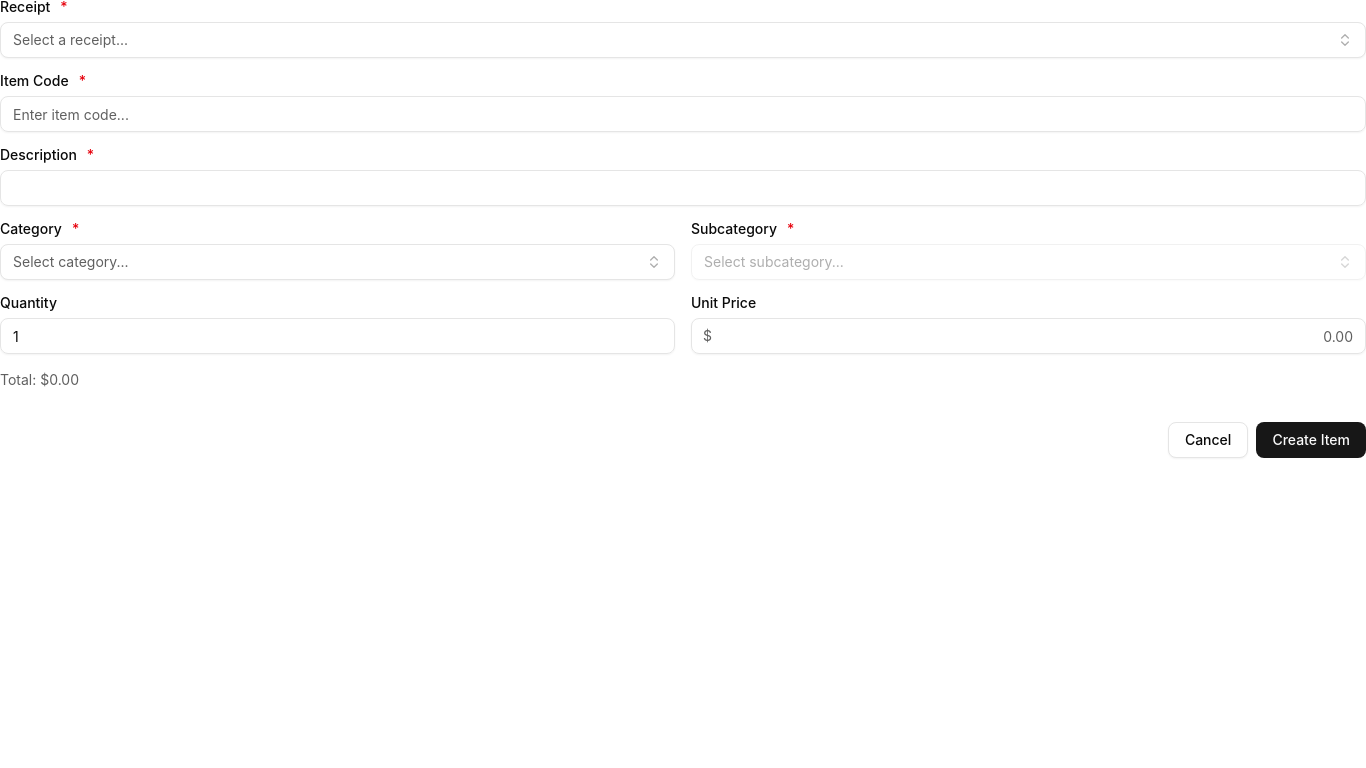
Test case: ReceiptItemForm › shows recent description history and item template groups in description autocomplete
Click the dropdown labelled "Description *".
click(683, 188)  # box [0,170,1365,206]
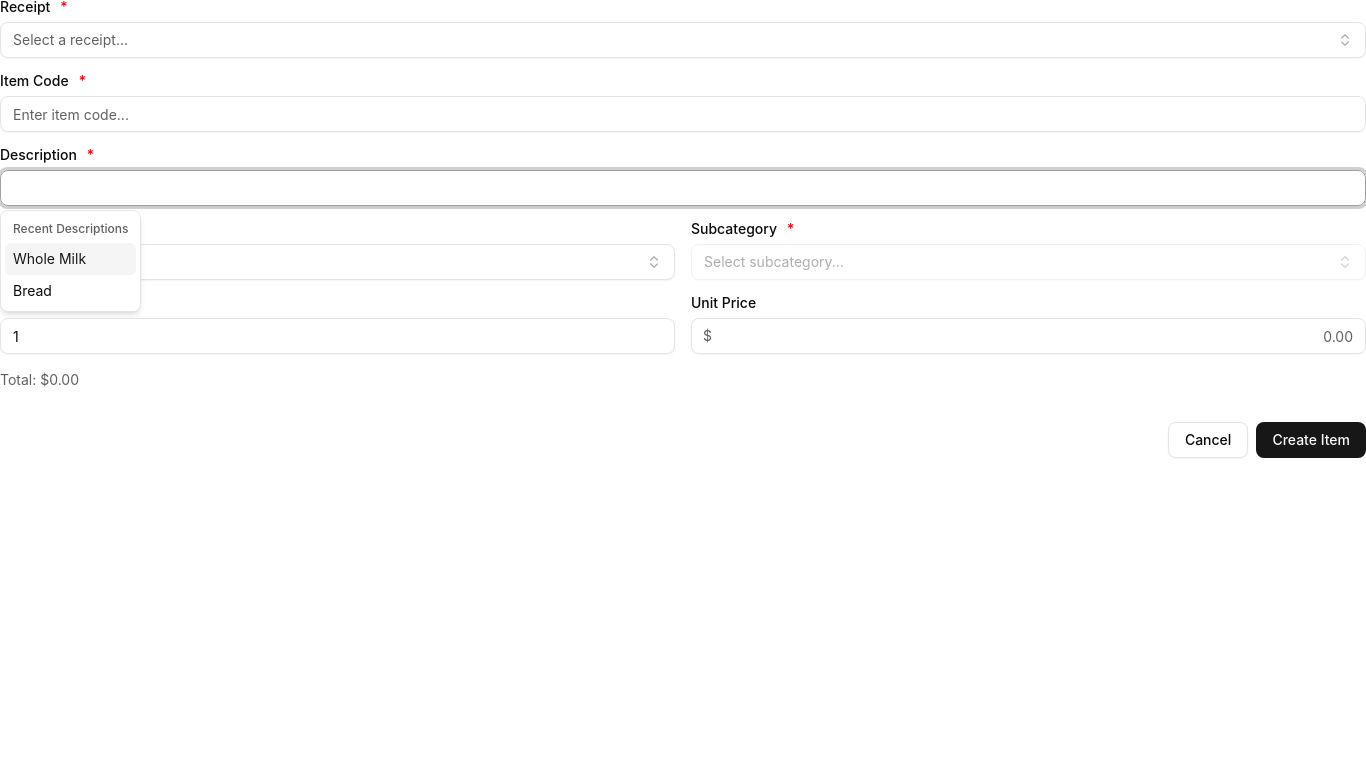
Now the text "Recent Descriptions" is shown, box [13,221,128,236]
Now the text "Whole Milk" is shown, box [13,249,86,269]
Now the text "Bread" is shown, box [13,281,52,301]
